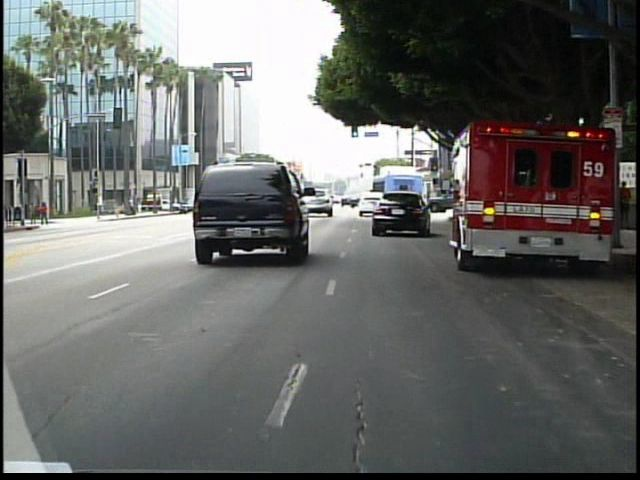person: (614, 176, 633, 230), (39, 199, 53, 228), (27, 200, 39, 228)
